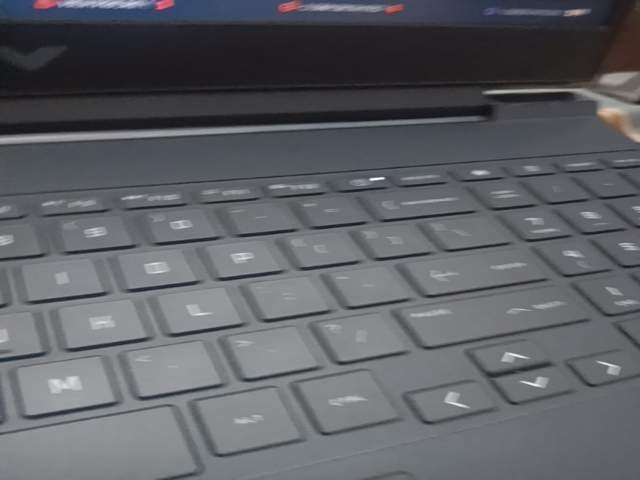pothole: (105, 403, 314, 480), (535, 403, 640, 480)
